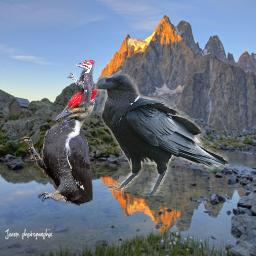Crow: (93, 74, 229, 196)
Woodpecker: (21, 89, 97, 206), (67, 60, 95, 115)
